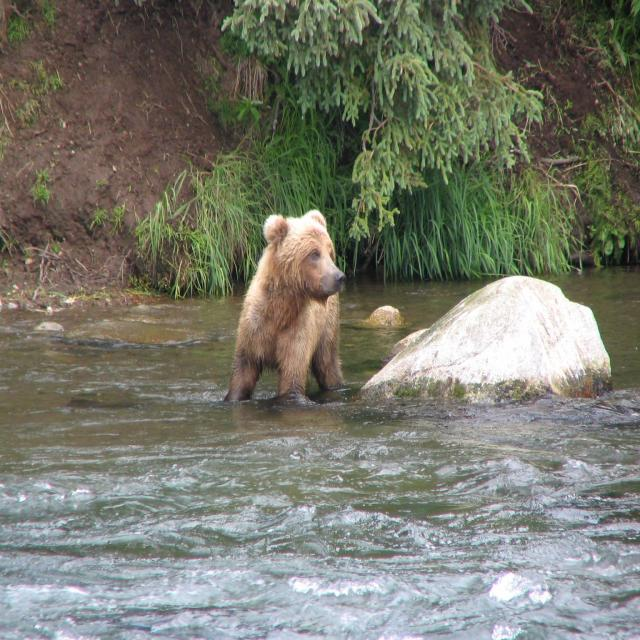bear face: (228, 206, 350, 405)
